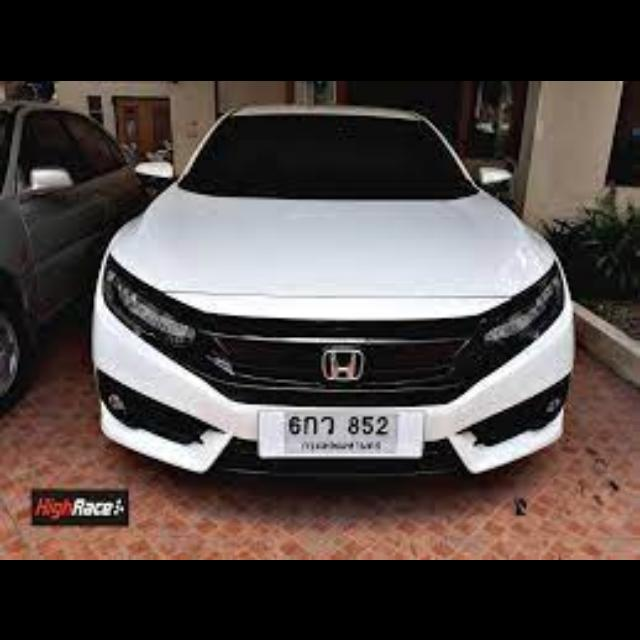licenseplate: (257, 407, 425, 459)
